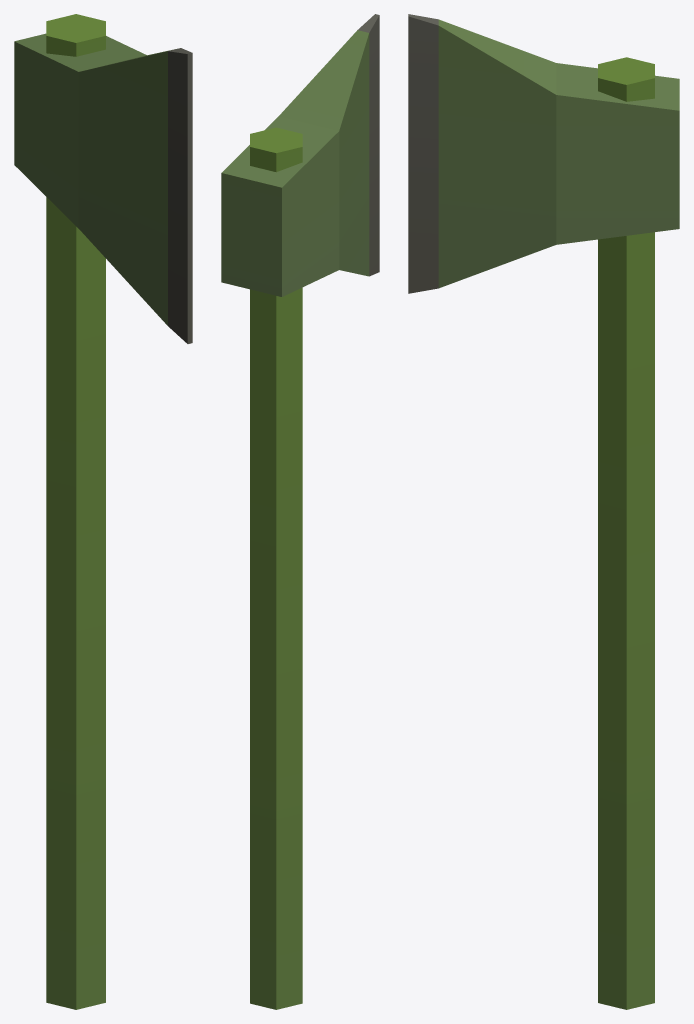
3 renders of one model, left to right at view 1: azimuth 30°, elevation 25°; view 2: azimuth 150°, elevation 25°; view 3: azimuth 270°, elevation 25°, orthographic. The views are drawn at different scales.
Parts seen in each view (by area): view 1: Ax_01; view 2: Ax_01; view 3: Ax_01.
Part boxes in pixels (x1,y1,x2,y2): Ax_01: [14, 14, 192, 1009]; Ax_01: [221, 14, 379, 1009]; Ax_01: [408, 14, 679, 1009].
Size of the model in its own units: 0.0423 by 0.6065 by 0.1521.
